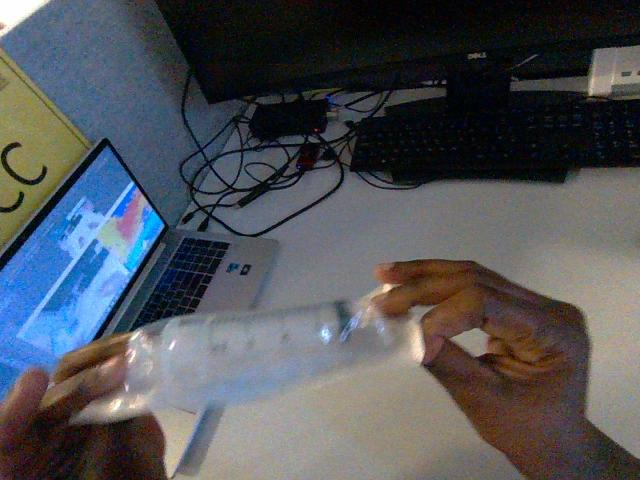syringe: (73, 286, 423, 423)
